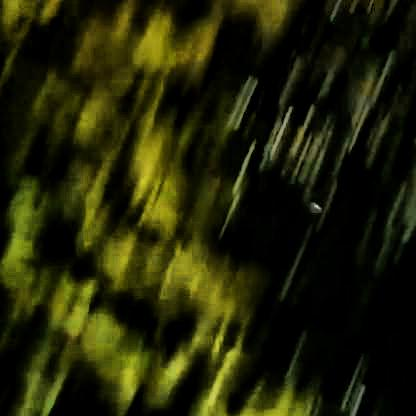golfball: (308, 194, 319, 212)
